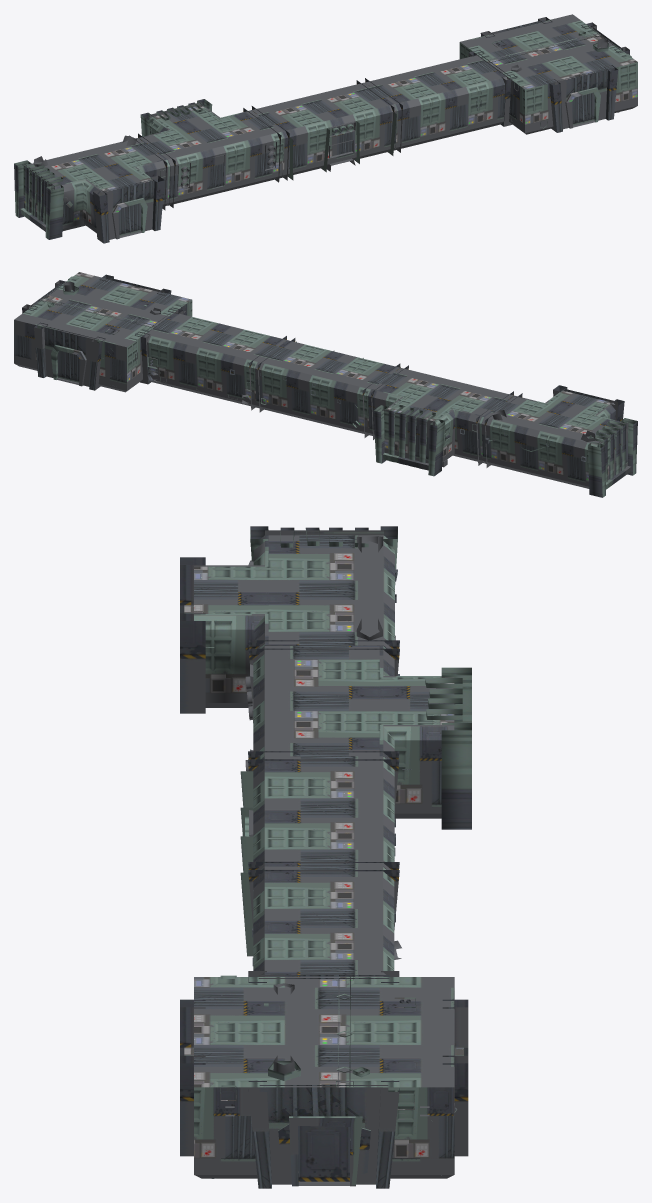
The model's file is Combined_Mesh_root_scene__7_93922163__zombies2_diffuse_06_4771cff4_c1f257.obj.
3 renders of one model, top to bottom at view 1: azimuth 30°, elevation 25°; view 2: azimuth 150°, elevation 25°; view 3: azimuth 270°, elevation 25°, orthographic. The views are drawn at different scales.
Size of the model in its own units: 102 by 9.84 by 22.39.
Materials: 85 (85 with a texture image).
